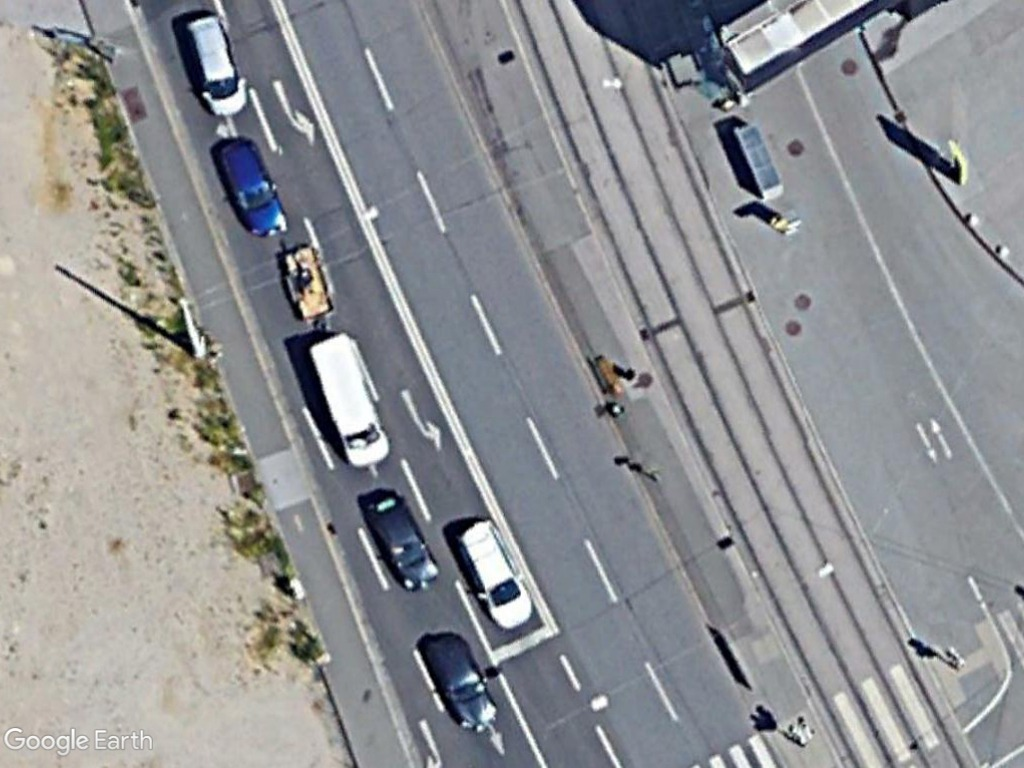car: (201, 122, 295, 246), (363, 483, 441, 598), (420, 629, 501, 734), (178, 7, 251, 122)
van: (305, 331, 392, 468), (448, 511, 536, 636)
